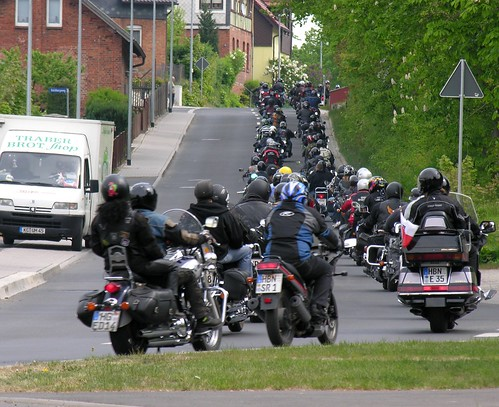helmet: (412, 163, 442, 191), (131, 177, 157, 206), (98, 169, 124, 197), (277, 183, 308, 202), (243, 177, 267, 199), (382, 178, 403, 197)
